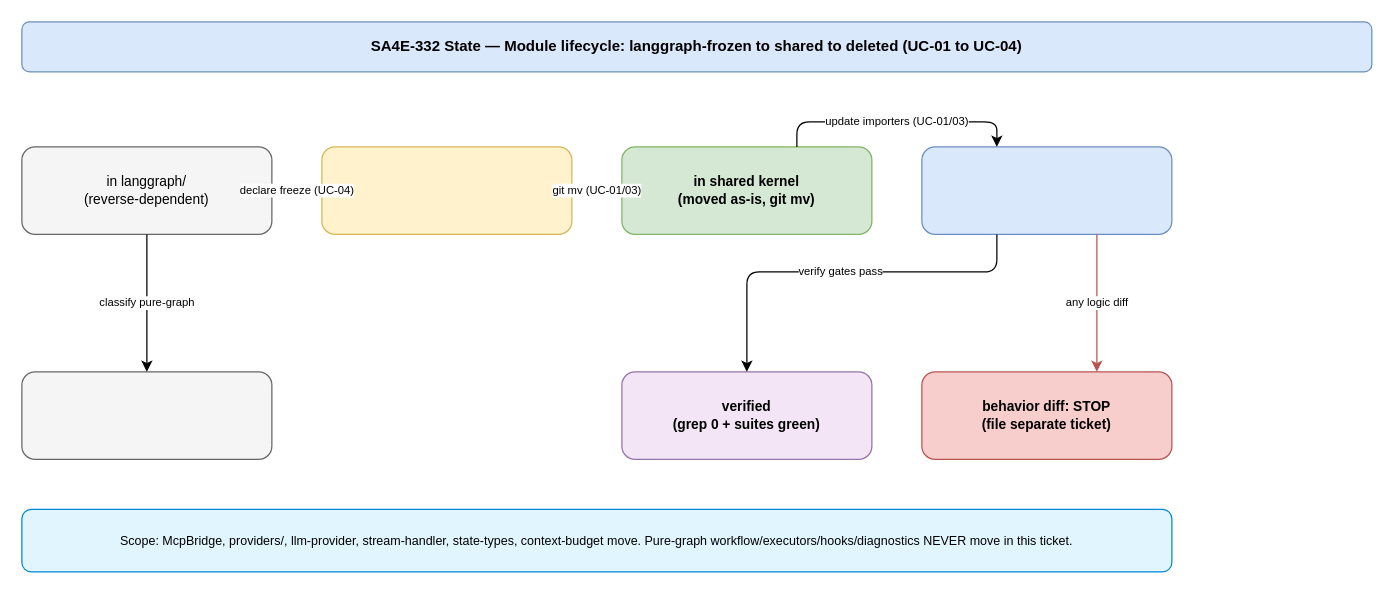
Image size: 1394x594. Some labels were removed from this diagram. Each missing label, with the centre of its shape:
FROZEN (README + lint rule): (446,190)
importers re-pointed original deleted: (1046,190)
pure-graph: stays (phased deletion later): (146,415)
